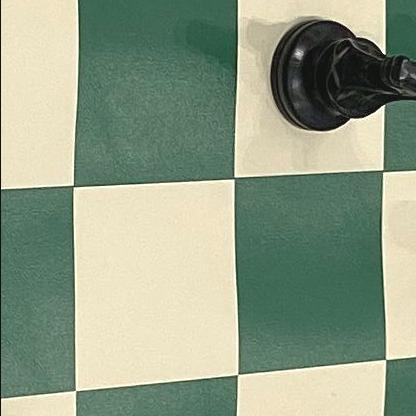black-knight: (265, 6, 416, 141)
